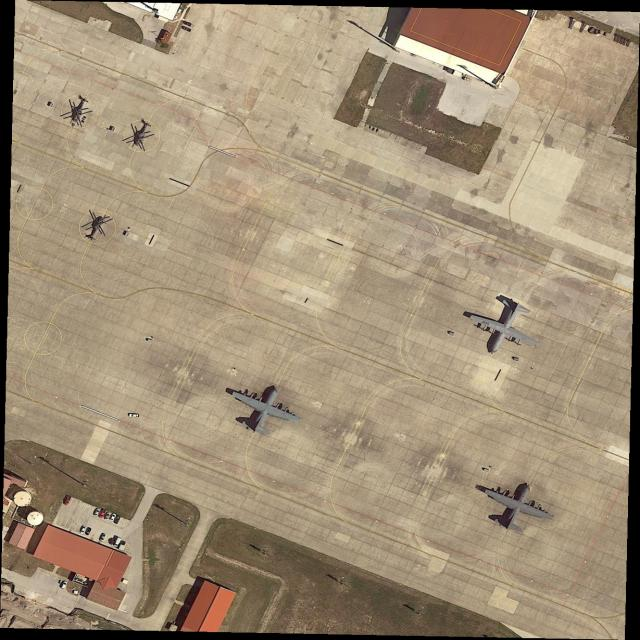large-vehicle: (112, 538, 122, 548)
plane: (459, 287, 551, 368), (470, 468, 565, 544), (221, 372, 311, 446)
small-vehicle: (62, 494, 72, 506), (112, 514, 122, 525), (98, 508, 107, 520), (60, 580, 71, 589), (99, 532, 108, 543), (93, 507, 102, 517), (85, 526, 92, 537), (109, 513, 117, 522), (79, 526, 87, 535), (104, 511, 111, 521), (129, 413, 141, 418)
storage-tank: (14, 491, 32, 507), (28, 512, 44, 526)
